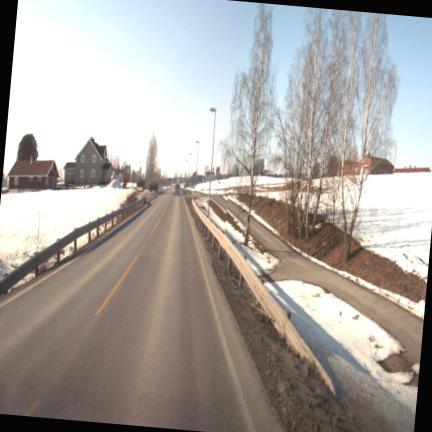Road: (0, 195, 283, 431)
